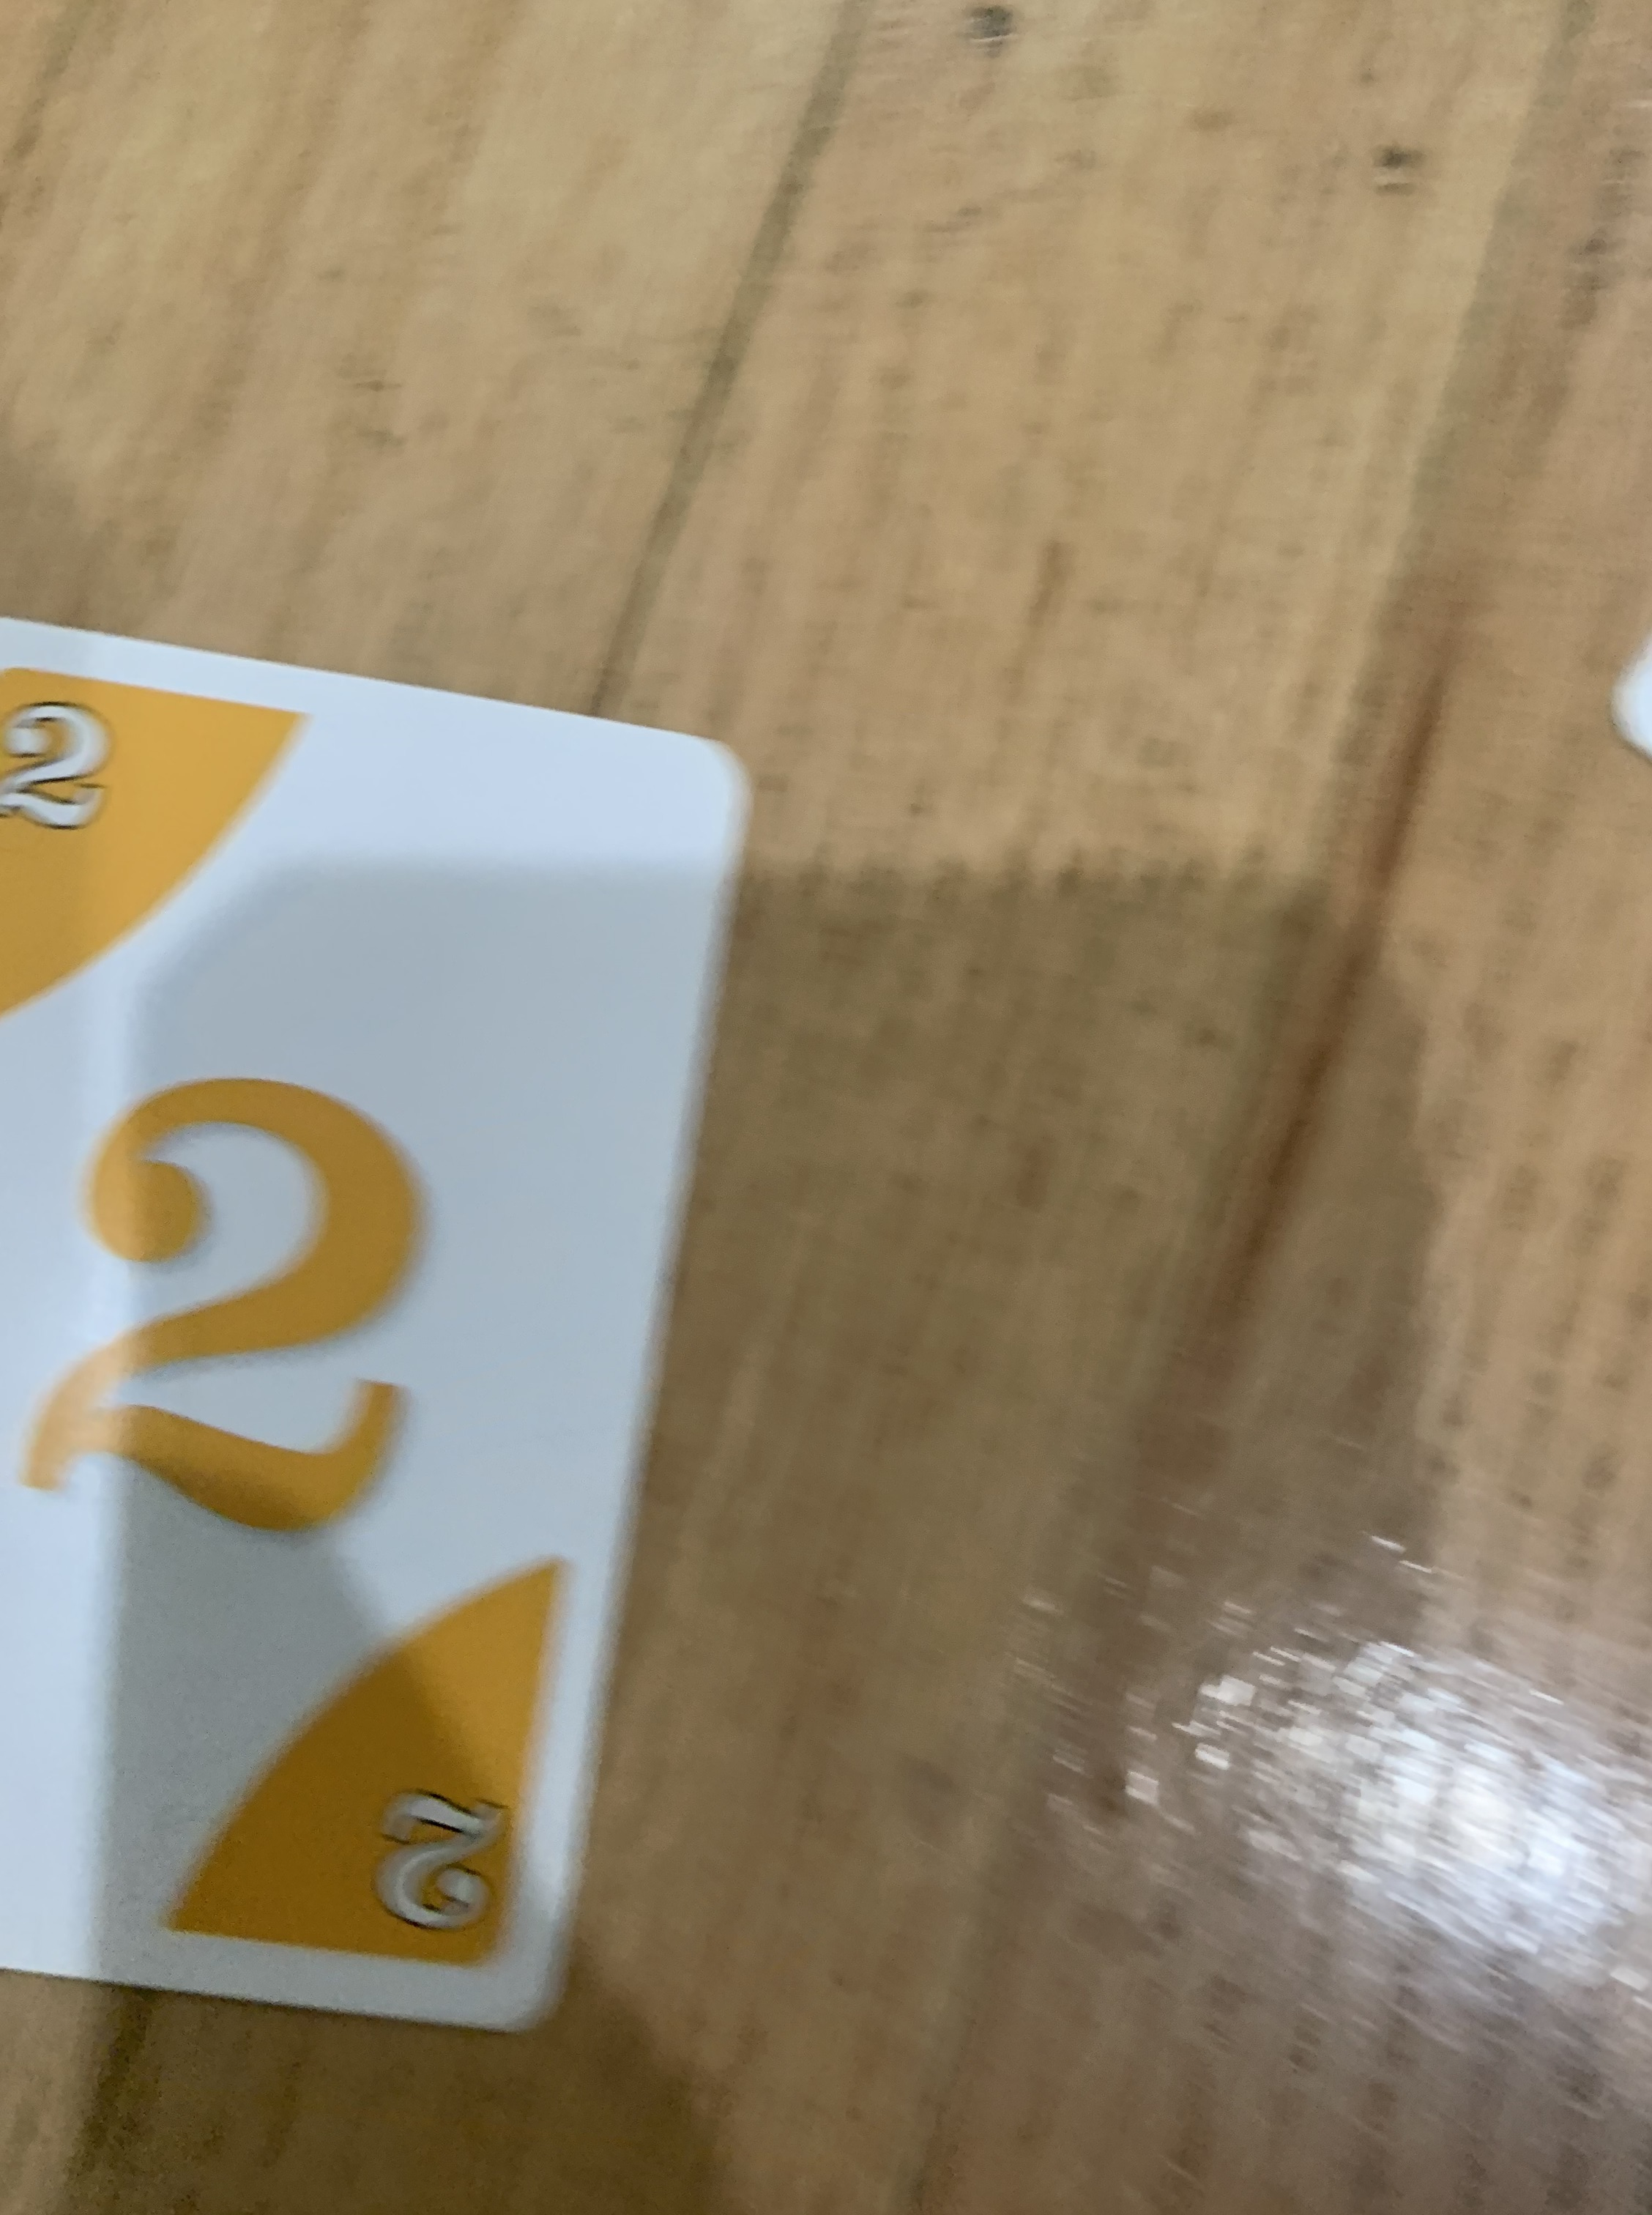two: (3, 595, 765, 2047)
